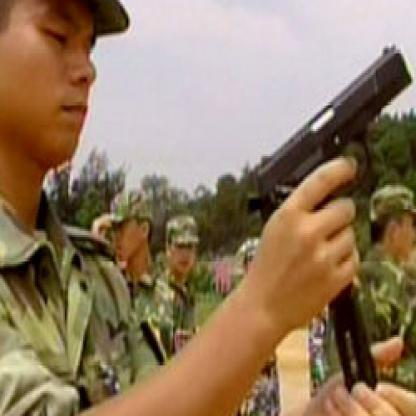gun: (246, 34, 414, 402)
